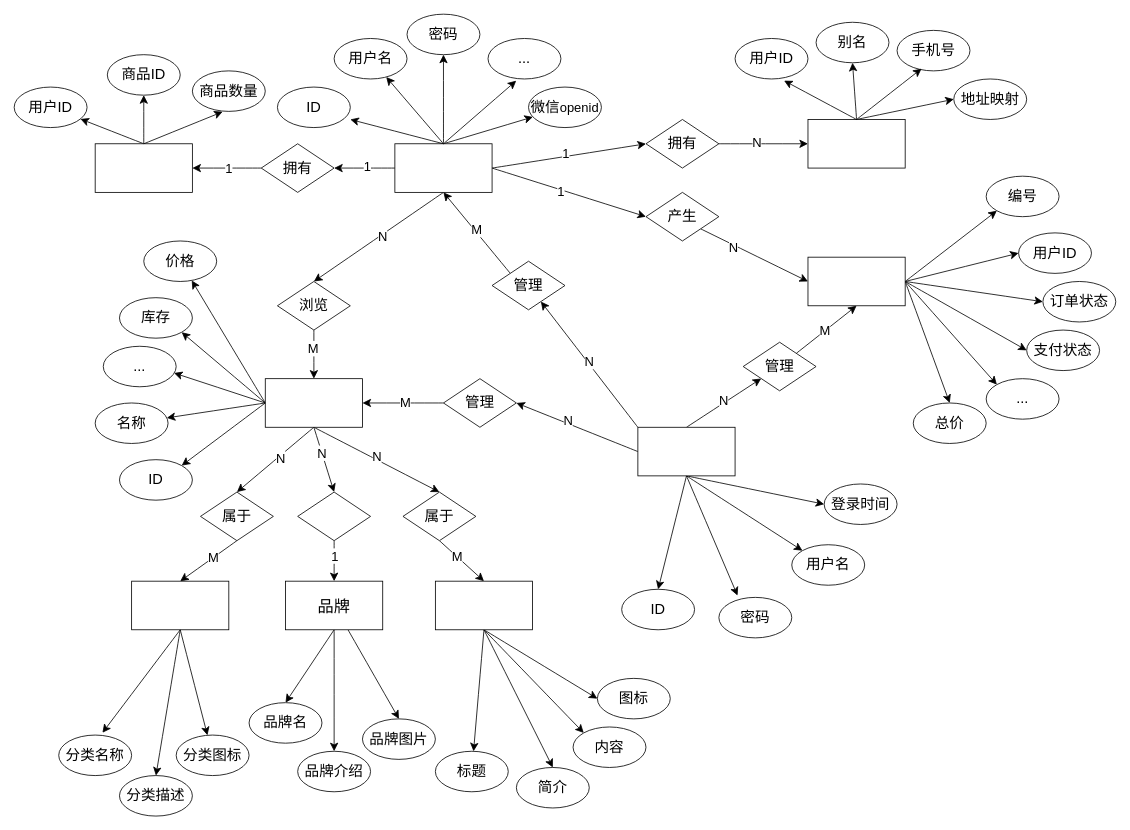
This 1130x830 diagram has some shape labels left out. Each missing label, with the centre of its shape:
专题: the point at 484,605
具有: the point at 334,516
商品: the point at 313,402
商品分类: the point at 180,605
收货地址: the point at 856,143
用户: the point at 443,167
管理员: the point at 686,451
订单: the point at 856,281
购物车: the point at 143,167
